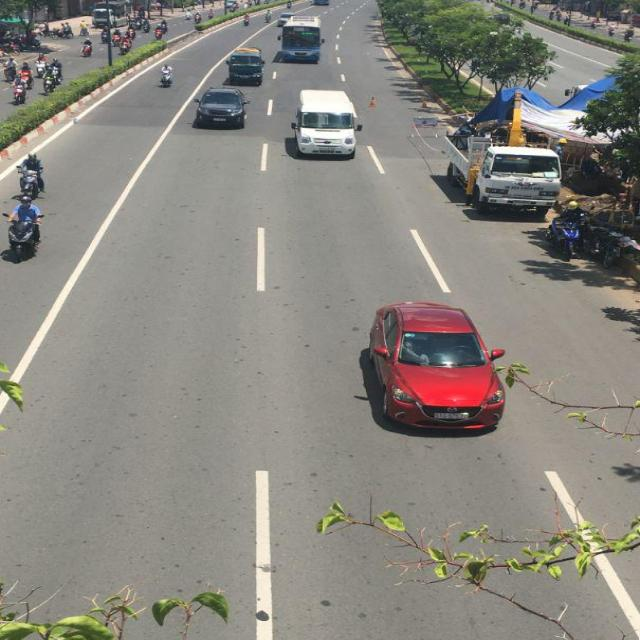bus: (276, 15, 322, 64)
car: (359, 300, 508, 435), (192, 87, 250, 128)
motorcycle: (5, 204, 43, 259), (159, 65, 174, 87)
truck: (434, 129, 560, 216), (289, 90, 358, 160), (226, 50, 266, 87)
